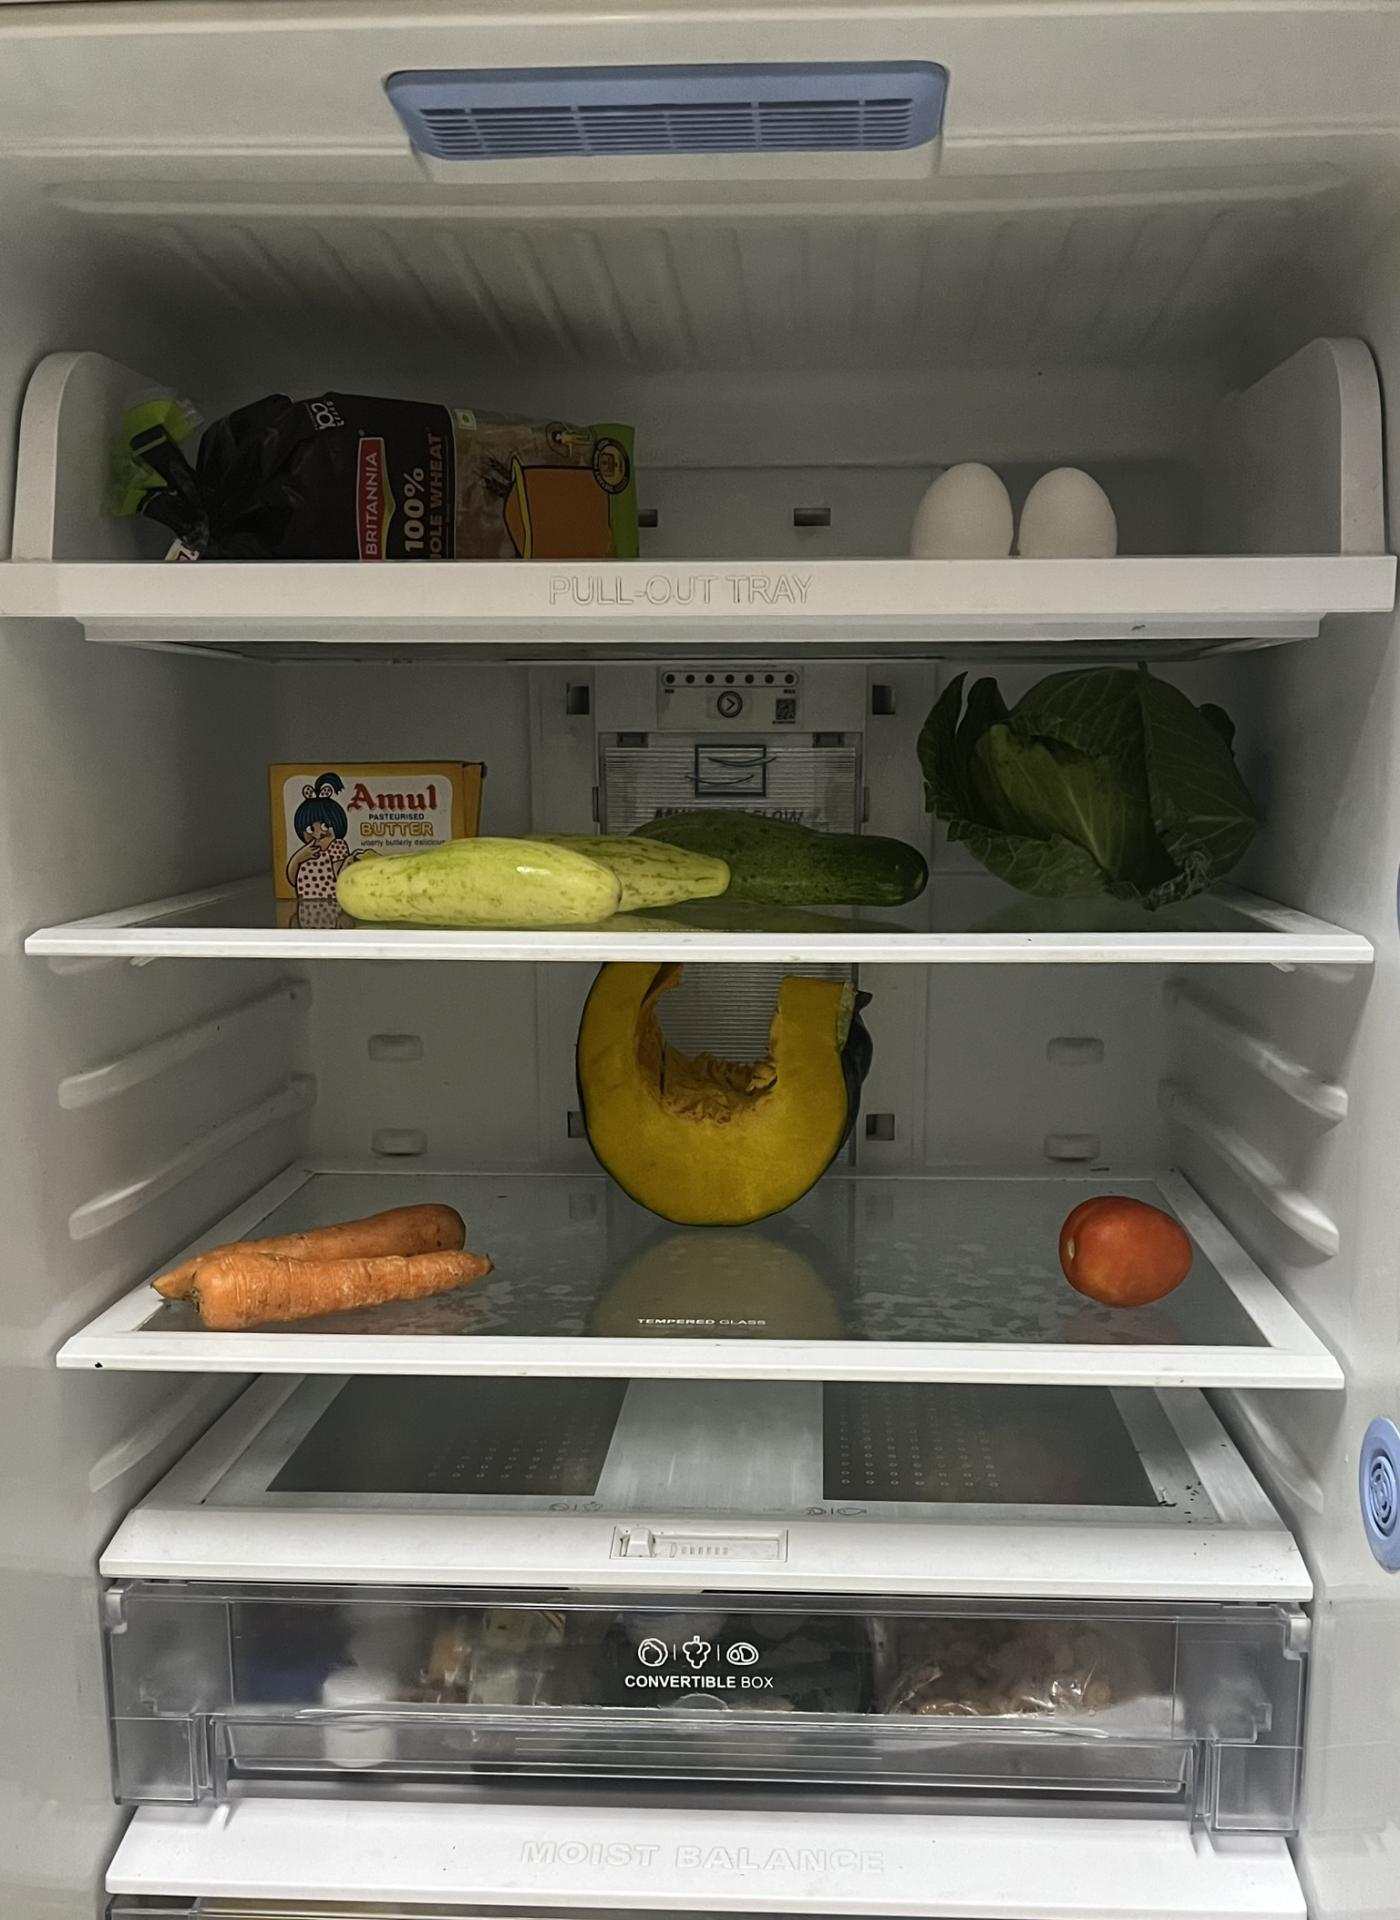bread: (130, 377, 655, 556)
butter: (268, 757, 488, 860)
cabbage: (918, 660, 1260, 899)
carrots: (157, 1203, 495, 1324)
cucumber: (325, 836, 723, 923), (640, 811, 929, 905)
egg: (918, 462, 1121, 565)
pumpkin: (573, 961, 868, 1230)
tomato: (1053, 1196, 1193, 1315)
